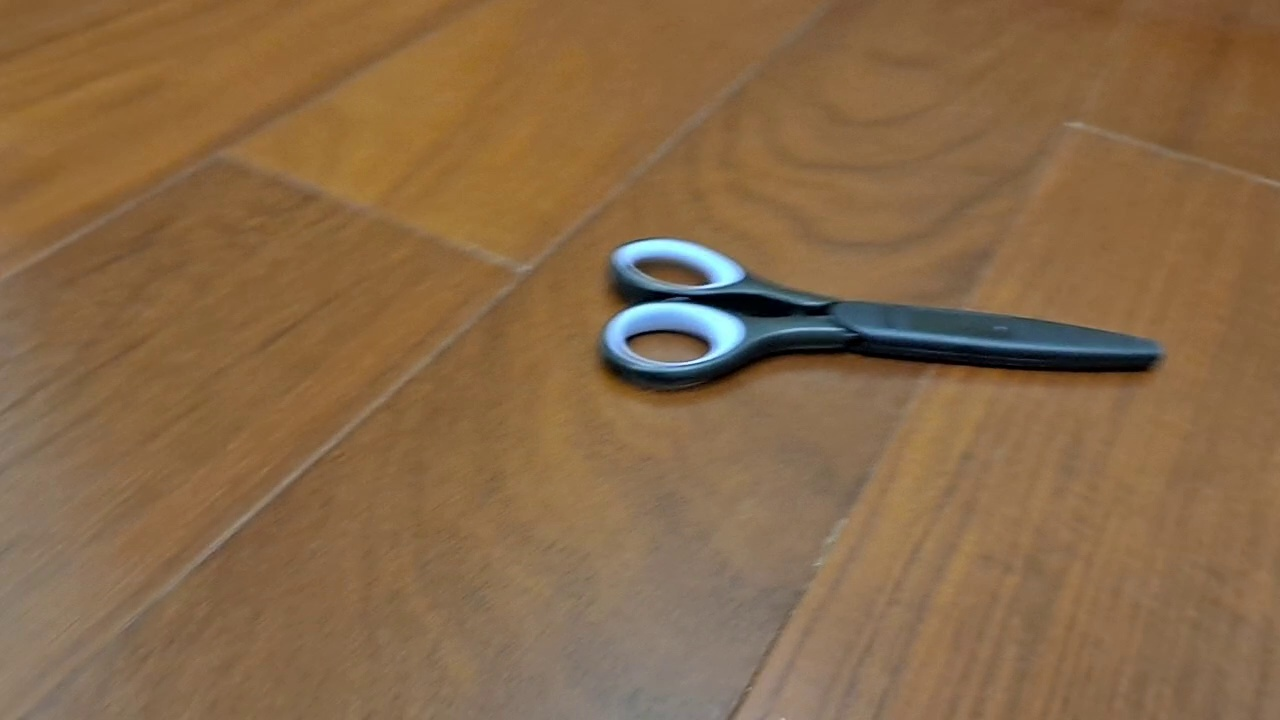scissors: (595, 236, 1168, 395)
